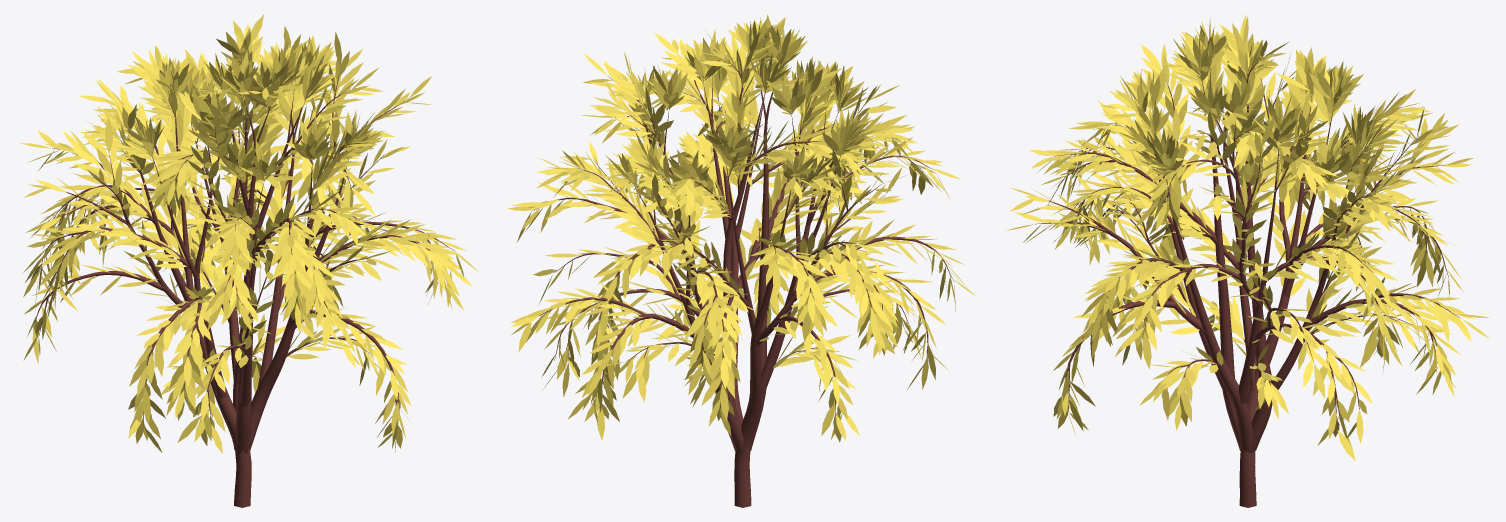
The model's file is Tree2.glb.
The picture shows the model from 3 angles, left to right: view 1: azimuth 30°, elevation 25°; view 2: azimuth 150°, elevation 25°; view 3: azimuth 270°, elevation 25°; orthographic projection.
Parts seen in each view (by area): view 1: leaves, tree; view 2: leaves, tree; view 3: leaves, tree.
Part boxes in pixels (box(x1,y1,x2,y2)): leaves: box(20, 14, 478, 453); tree: box(32, 61, 454, 507); leaves: box(507, 14, 975, 442); tree: box(532, 54, 954, 507); leaves: box(1007, 14, 1489, 461); tree: box(1035, 57, 1460, 507).
Size of the model in its own units: 4.45 by 5.54 by 5.07.
